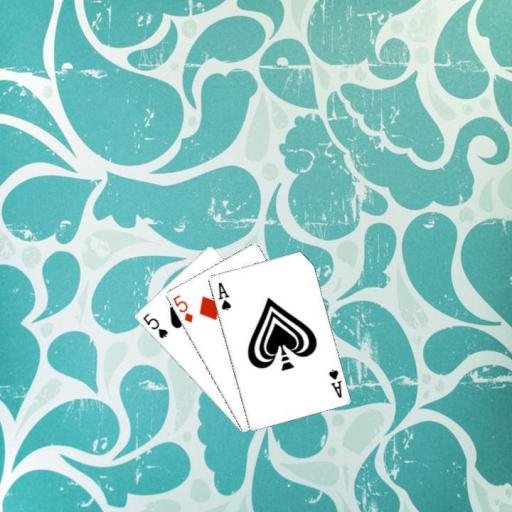5D: (169, 292, 194, 324)
5S: (140, 310, 170, 340)
AS: (325, 366, 343, 400), (215, 279, 232, 311)
